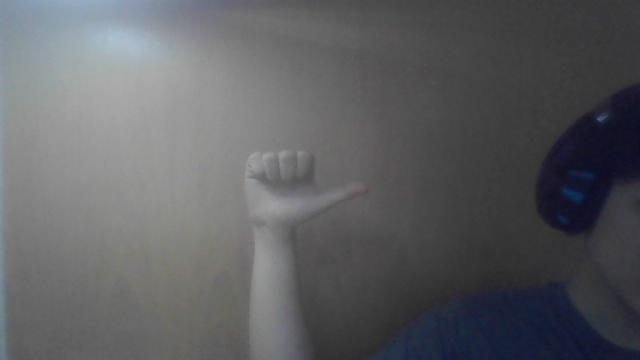left: (238, 139, 374, 228)
